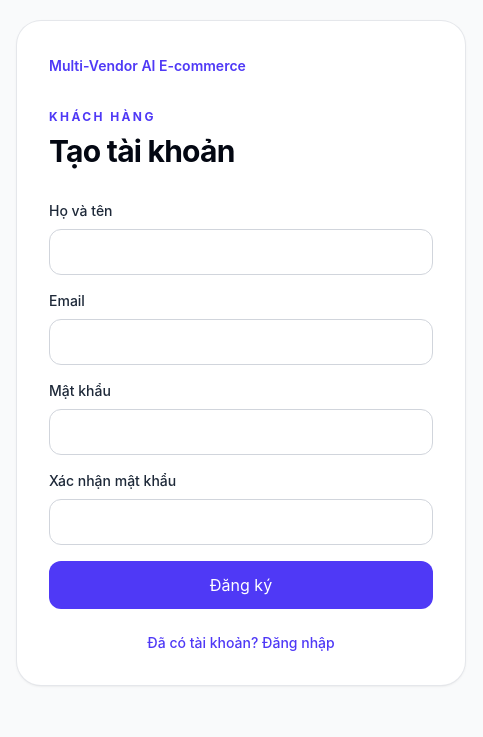
it: RegisterPage › resends verification to the newly registered email
Type "New Customer" into the field labelled "Họ và tên" at [241, 252], box [49,229,433,275]
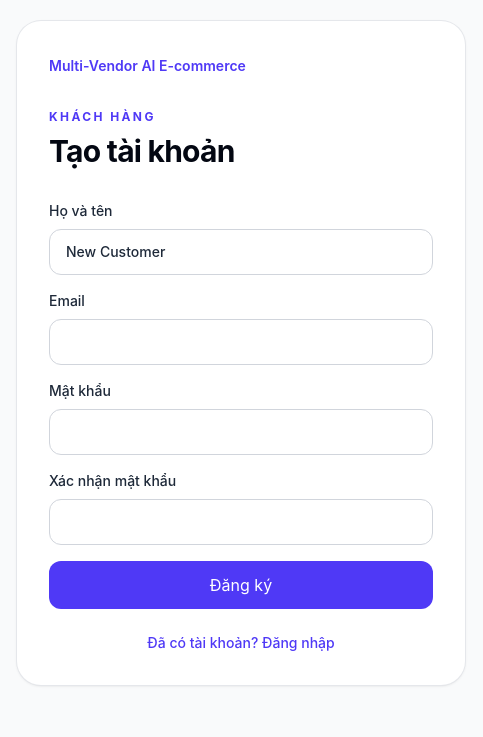
Type "new.customer@gmail.com" into the field labelled "Email" at [241, 342], box [49,319,433,365]
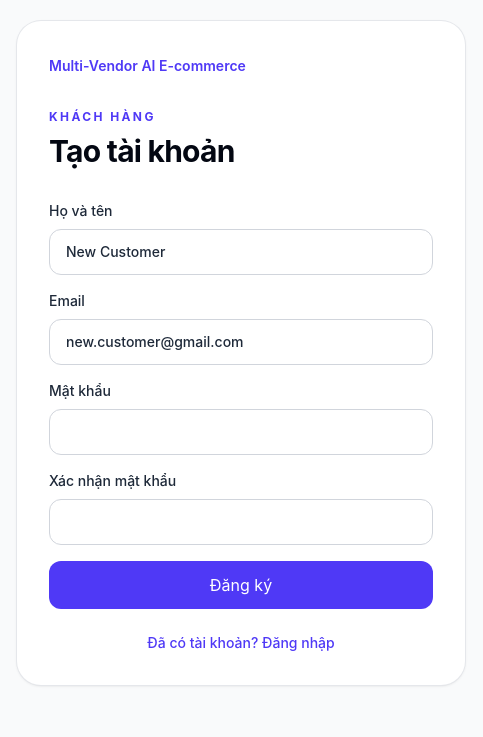
Type "StrongPass!234" into the password field labelled "Mật khẩu" at [241, 432], box [49,409,433,455]
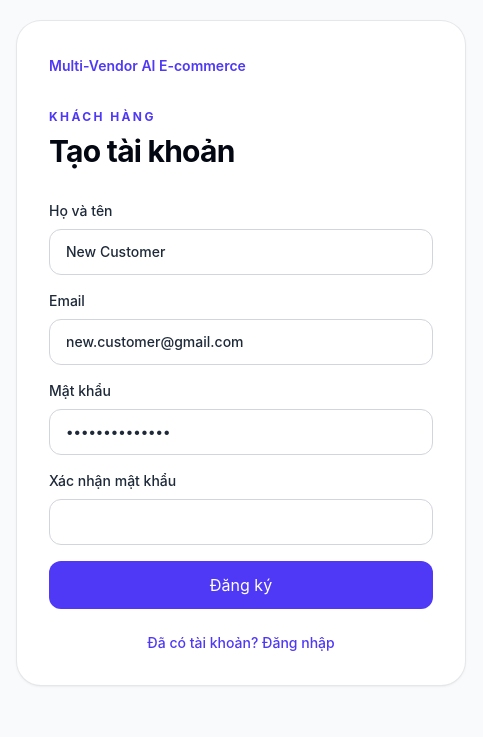
Type "StrongPass!234" into the password field labelled "Xác nhận mật khẩu" at [241, 522], box [49,499,433,545]
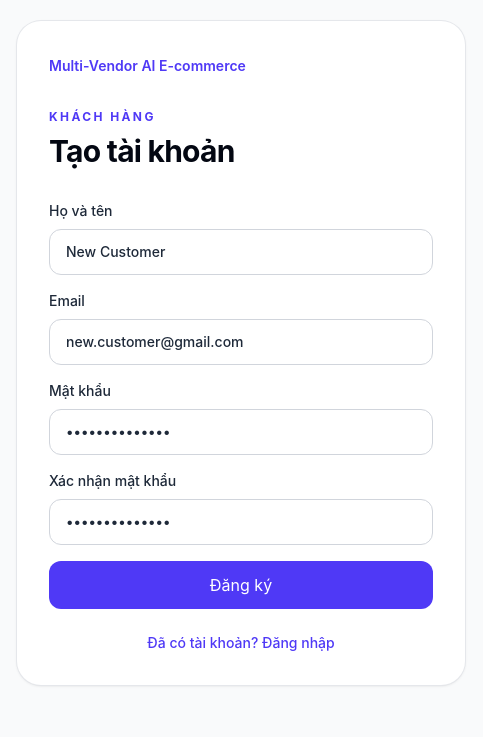
Submit the form, box [49,201,433,609]
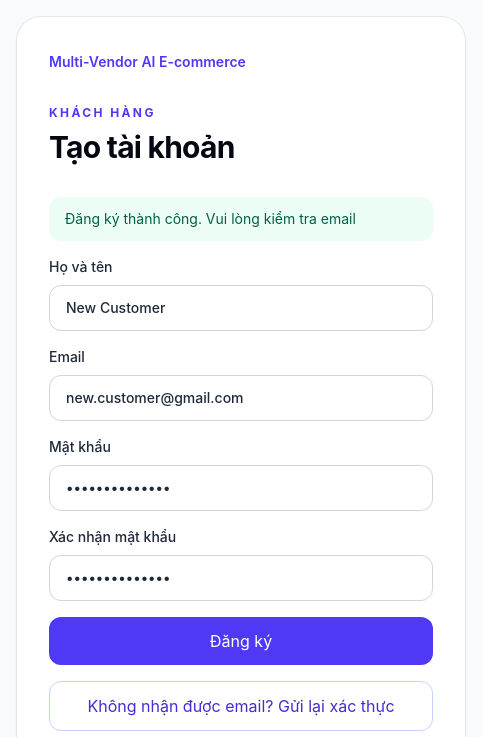
Check: the button "Không nhận được email? Gửi lại xác thực" is shown
Click the button "Không nhận được email? Gửi lại xác thực" at [241, 706], box [49,681,433,731]
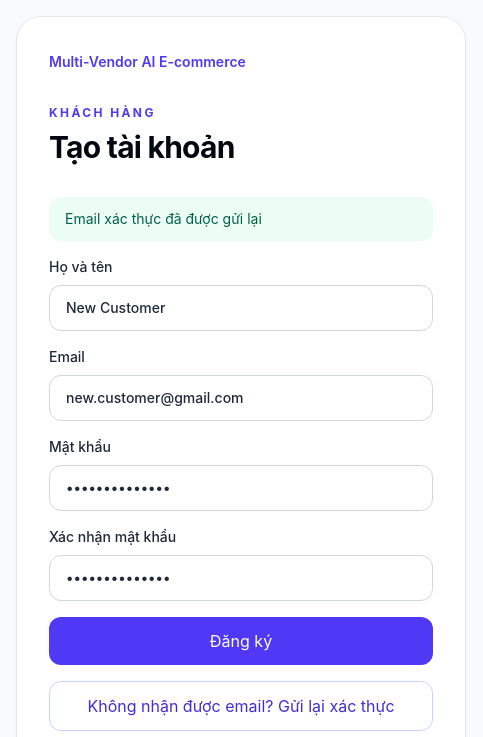
Check: the text "Email xác thực đã được gửi lại" is shown, box [49,197,433,241]
